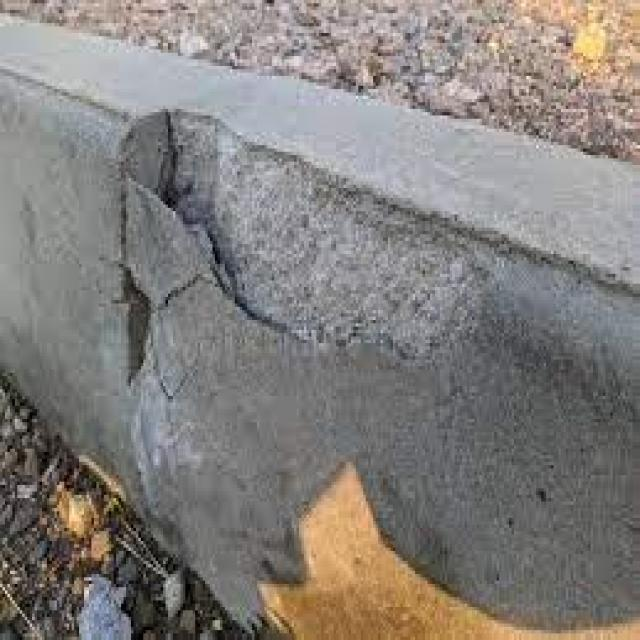curb: (125, 71, 640, 640), (4, 8, 237, 514)
